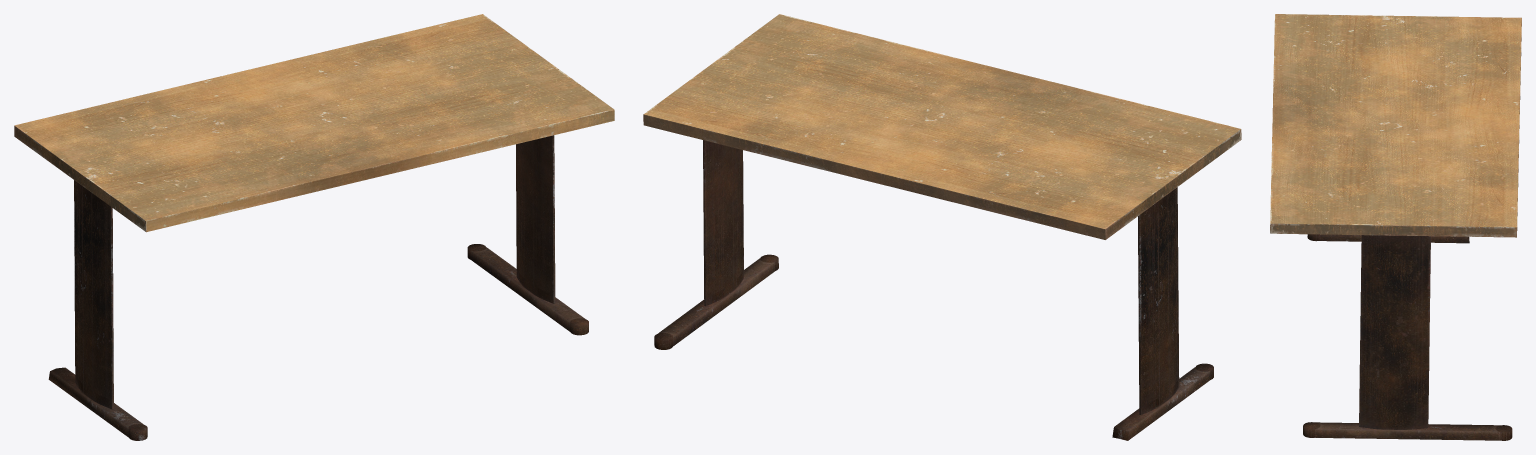
Rendered from trash_gagu003.fbx.
3 views of the same model, side by side, from view 1: azimuth 30°, elevation 25°; view 2: azimuth 150°, elevation 25°; view 3: azimuth 270°, elevation 25° (orthographic). The views are drawn at different scales.
Visible parts, largest first — view 1: trash_gagu003; view 2: trash_gagu003; view 3: trash_gagu003.
Boxes of the visible parts, x1,y1,x2,y2 form: trash_gagu003: [14, 14, 614, 440]; trash_gagu003: [643, 14, 1241, 440]; trash_gagu003: [1270, 14, 1521, 440].
Size of the model in its own units: 160 by 81.18 by 77.87.
